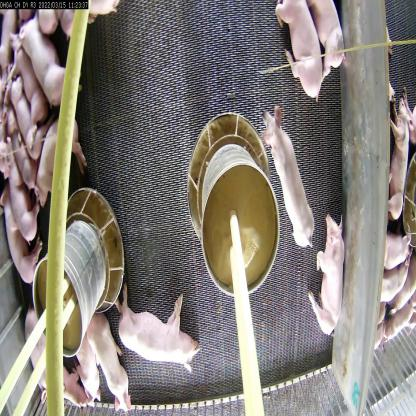Pig: (260, 96, 316, 264), (116, 281, 203, 364), (304, 180, 346, 342), (29, 320, 90, 415), (35, 95, 87, 199), (0, 184, 44, 296), (1, 148, 47, 253), (86, 310, 130, 416), (275, 0, 322, 97), (19, 18, 70, 104), (1, 58, 38, 162), (14, 33, 43, 121)
